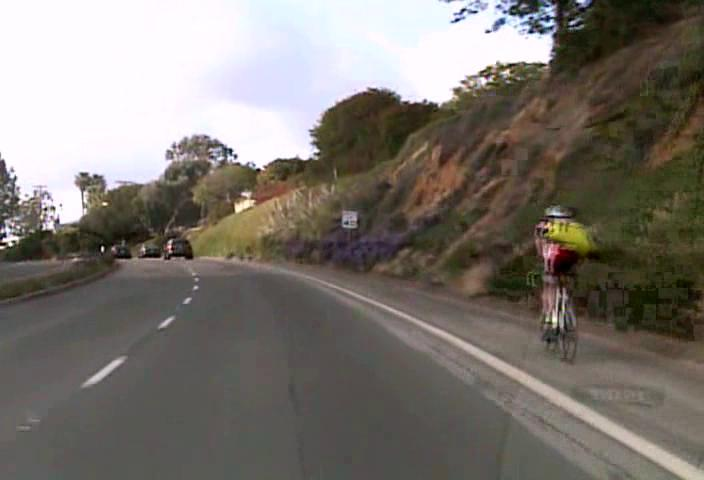speedLimitUrdbl: (341, 209, 358, 229)
